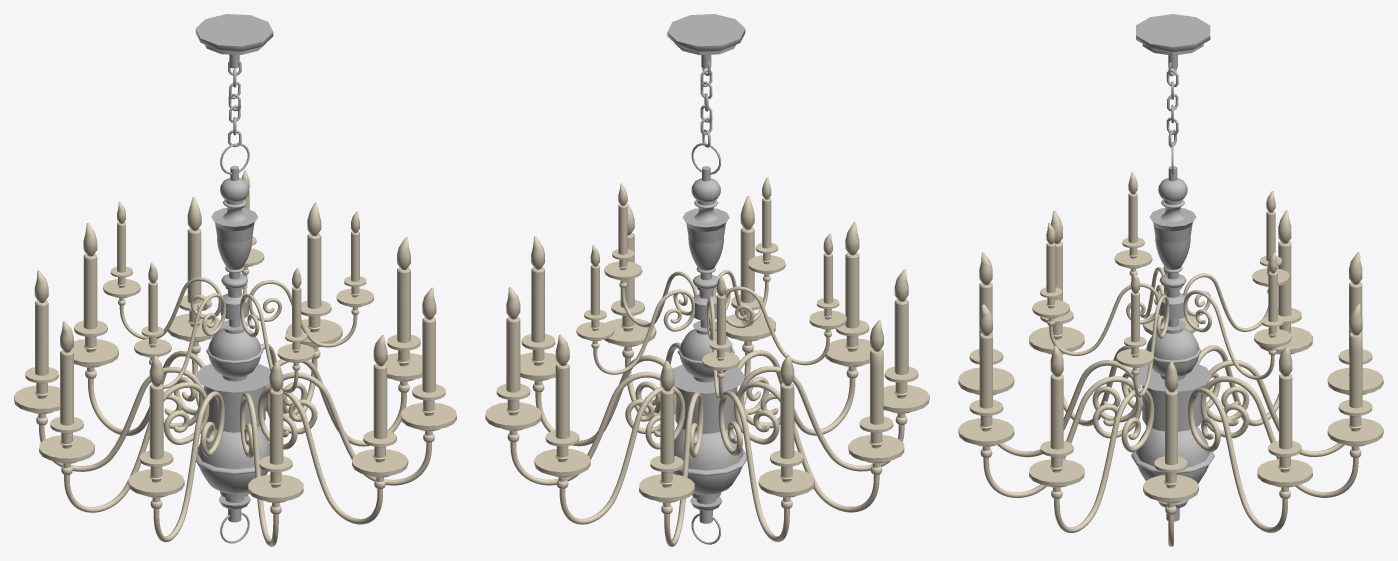
The model's file is Chandelier.fbx.
3 views of the same model, side by side, from view 1: azimuth 30°, elevation 25°; view 2: azimuth 150°, elevation 25°; view 3: azimuth 270°, elevation 25° (orthographic).
Visible parts, largest first — view 1: candleholder, Chandelier; view 2: candleholder, Chandelier; view 3: candleholder, Chandelier.
Boxes of the visible parts, left/top/right/bottom form: candleholder: left=14, top=170, right=456, bottom=546; Chandelier: left=195, top=14, right=273, bottom=543; candleholder: left=485, top=177, right=929, bottom=546; Chandelier: left=667, top=14, right=746, bottom=544; candleholder: left=958, top=172, right=1383, bottom=546; Chandelier: left=1131, top=14, right=1214, bottom=521.
Bounding box in the file's own units: 265 × 337 × 253.
